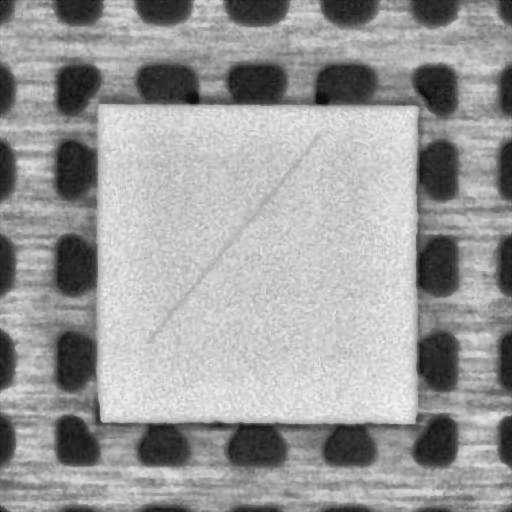DIE_CRACK: (146, 136, 317, 342)
